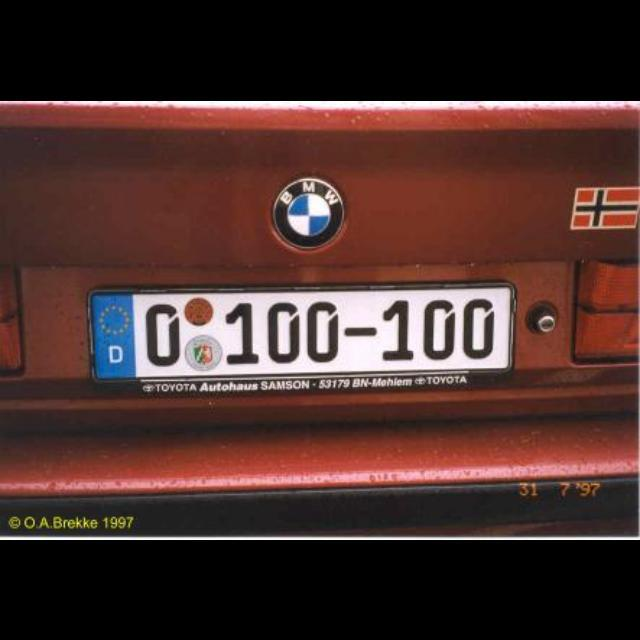license-plates: (90, 285, 516, 394)
